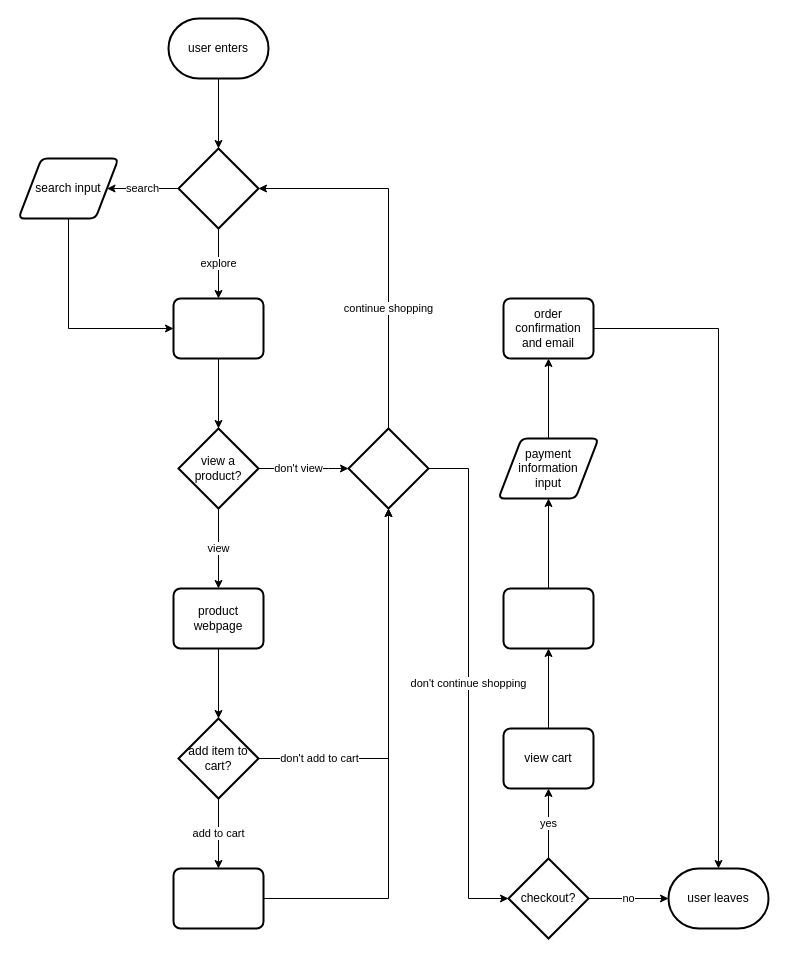
This 786x956 diagram has some shape labels left out. The centre of each missing label's shape, as x and y in pixels:
add to cart confirmation: (218,898)
continue shopping?: (388,468)
look over products: (218,328)
search or explore: (218,188)
view payment: (548,618)
